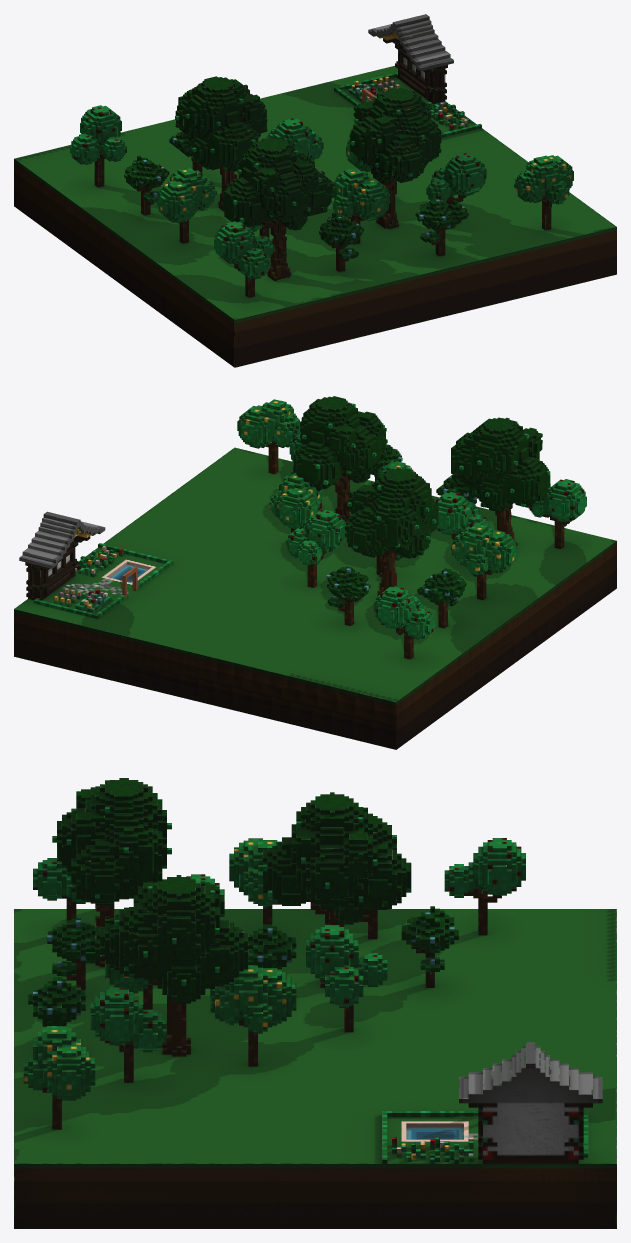
The picture shows the model from 3 angles, top to bottom: view 1: azimuth 30°, elevation 25°; view 2: azimuth 150°, elevation 25°; view 3: azimuth 270°, elevation 25°; orthographic projection. The views are drawn at different scales.
Visible parts, largest first — view 1: _B; view 2: _B; view 3: _B.
Part boxes in pixels (<box>): _B: <box>14,14,616,367</box>; _B: <box>14,396,616,749</box>; _B: <box>14,778,616,1228</box>.
Bounding box in the file's own units: 126 × 126 × 55.
1 material, 1 textured.
